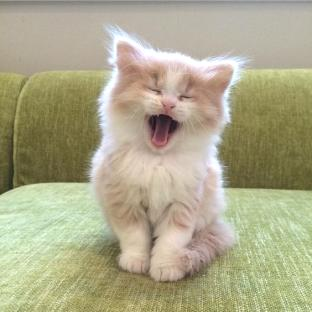Animal: (91, 35, 240, 281)
